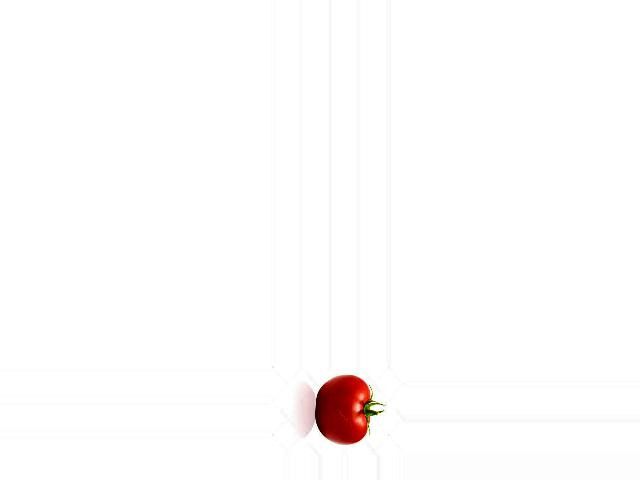tomato: (315, 374, 370, 445)
